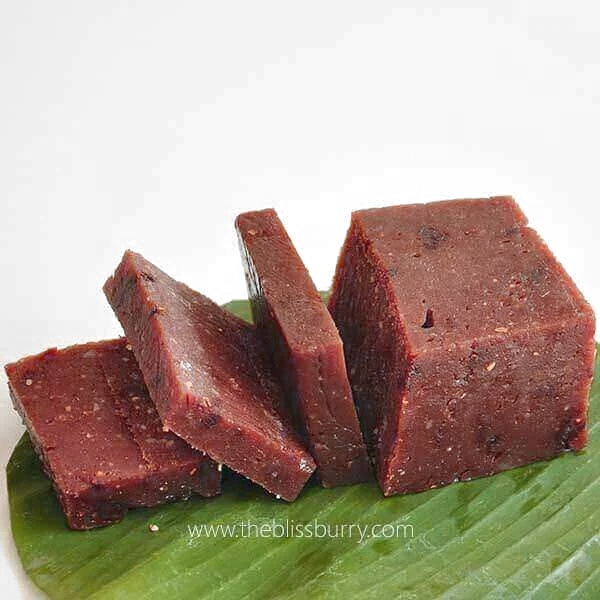dodol: (325, 193, 596, 499), (100, 250, 315, 504), (2, 334, 225, 530), (232, 207, 372, 489)
